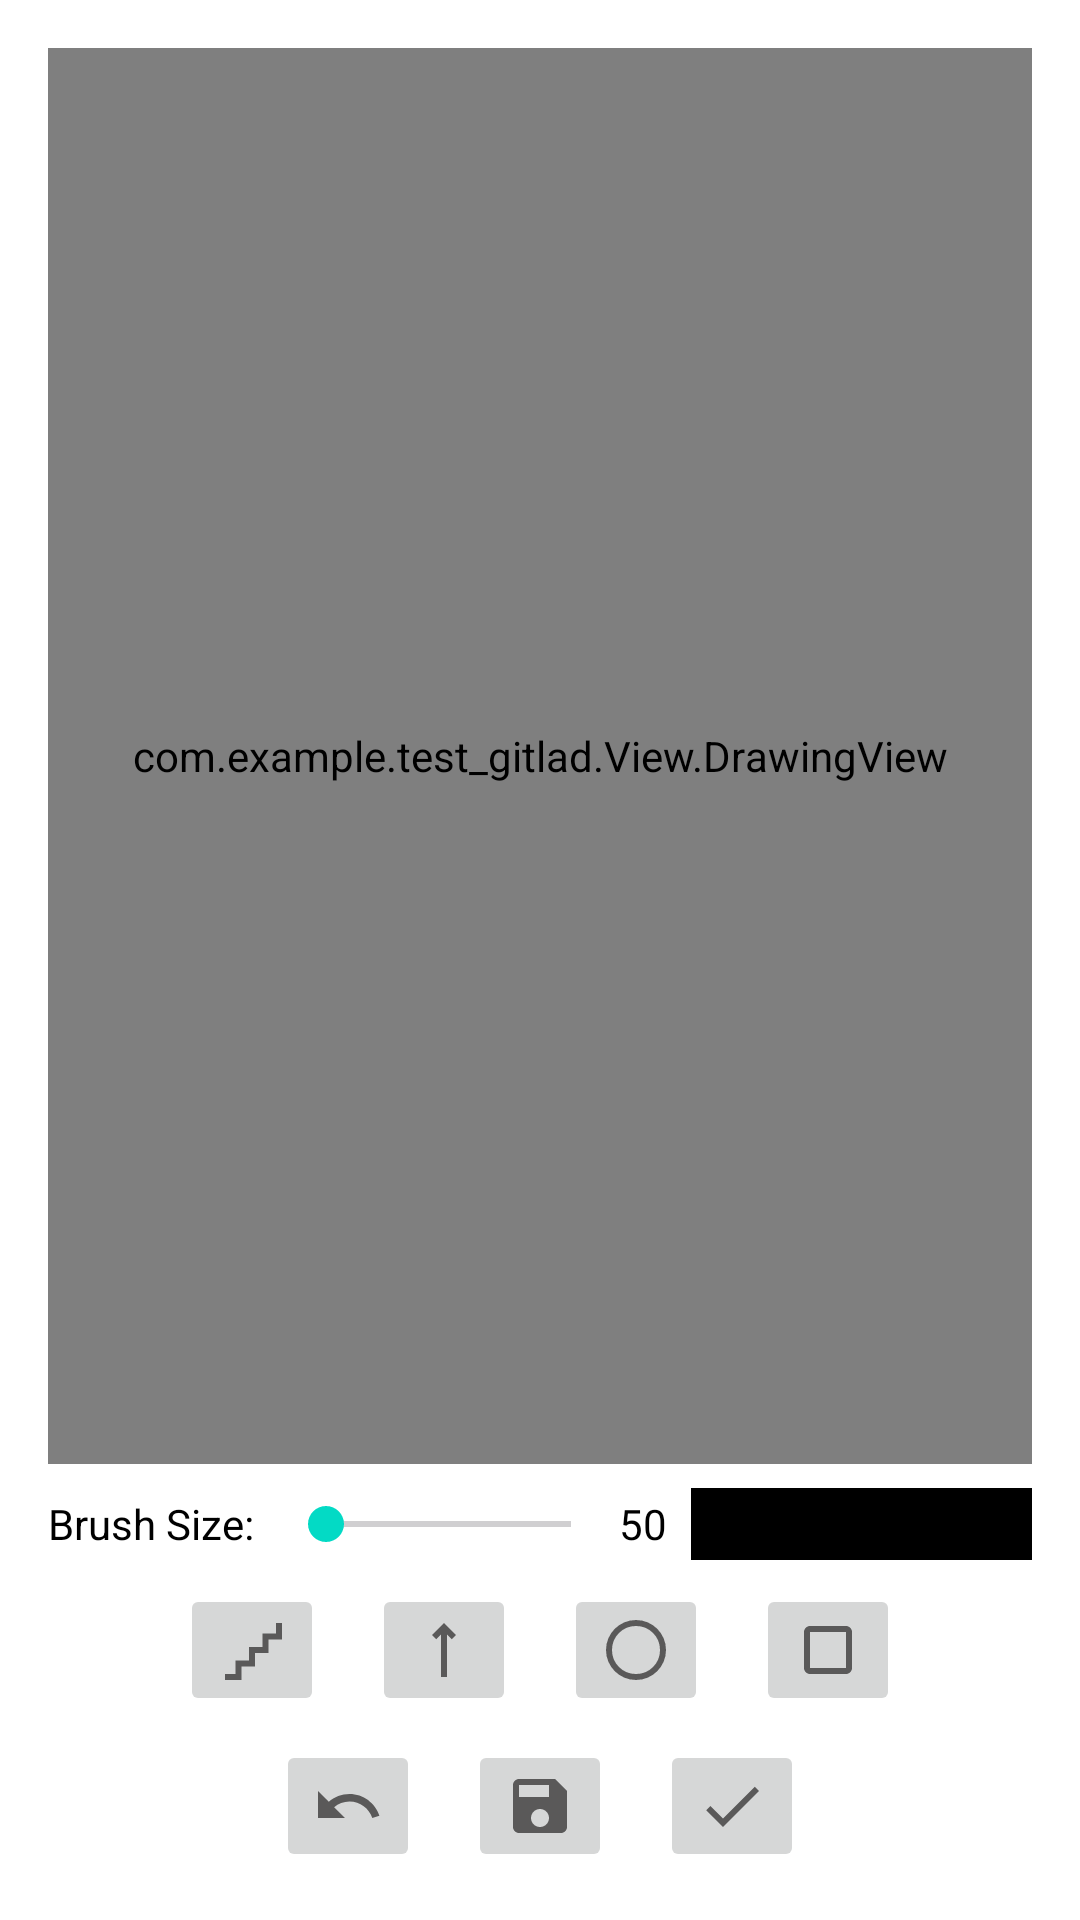

Screen size 1080w x 1920h. Icon name, then its center in pixels as [x,y]:
crop square: [828,1650]
done: [732,1806]
floor: [252,1650]
save: [540,1806]
straight: [444,1650]
undo: [348,1806]
